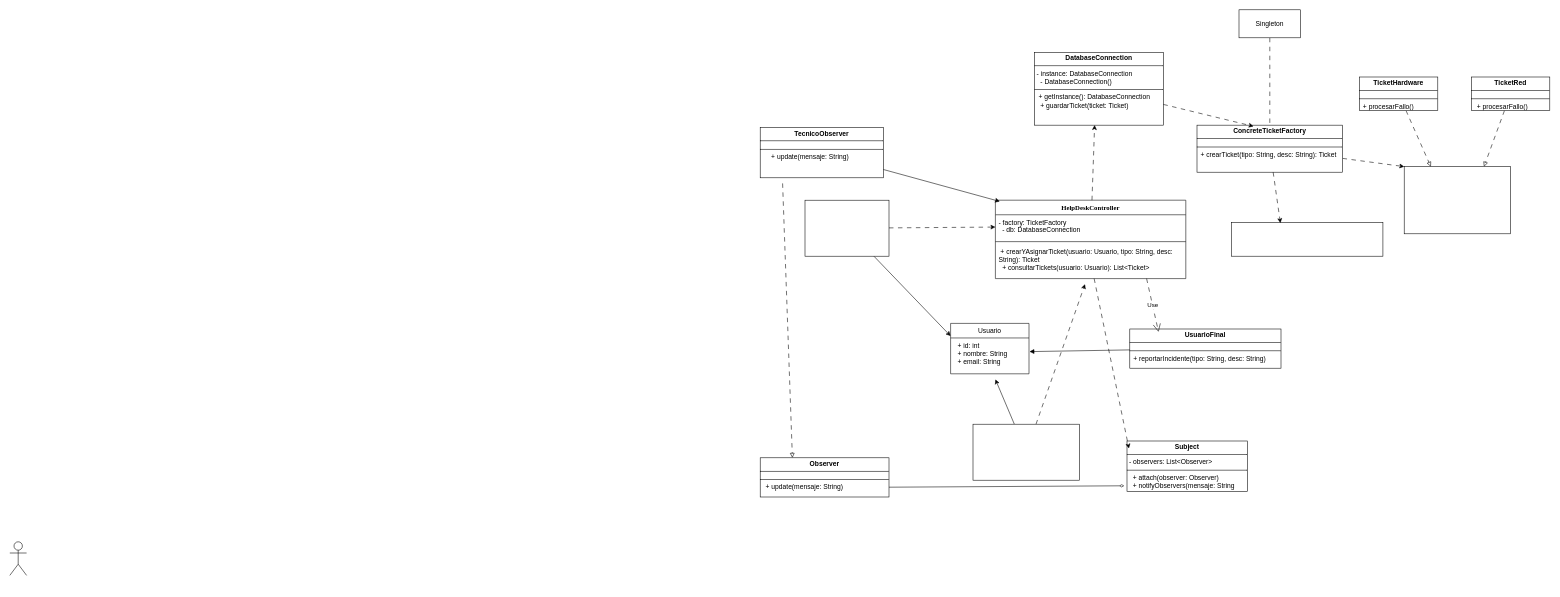
Some shapes in this 1560 by 597 pixel diagram are drawn without their labels. Each missing label, with the centre of its shape:
"Actor" belongs at point (18, 558).
"Administrador + gestionarTecnicos() + verMetricas()" belongs at point (846, 228).
"Tecnico + resolverTicket(ticket: Ticket) + asignarTicket(ticket: Ticket)" belongs at point (1025, 452).
"Ticket + id: int + descripcion: String + estado: String + procesarFallo()" belongs at point (1457, 200).
"TicketFactory + crearTicket(tipo: String, desc: String): Ticket" belongs at point (1307, 239).
